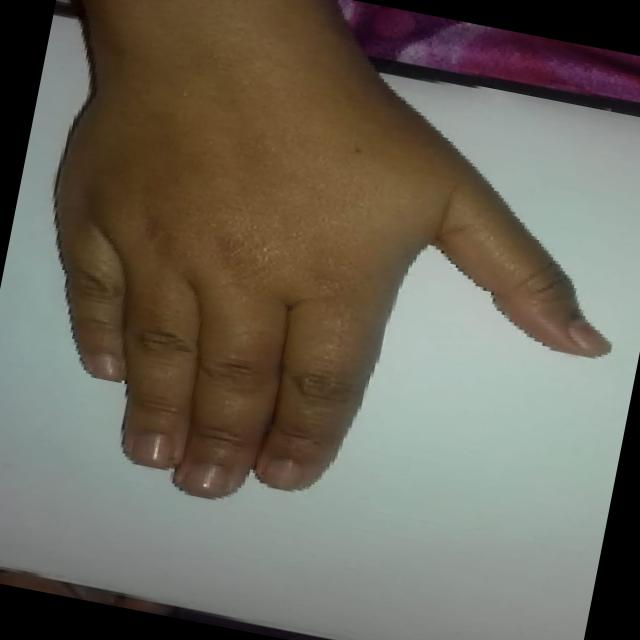Nail: (130, 433, 175, 470), (568, 320, 612, 357), (187, 462, 228, 498), (260, 458, 303, 490), (91, 352, 126, 381)
